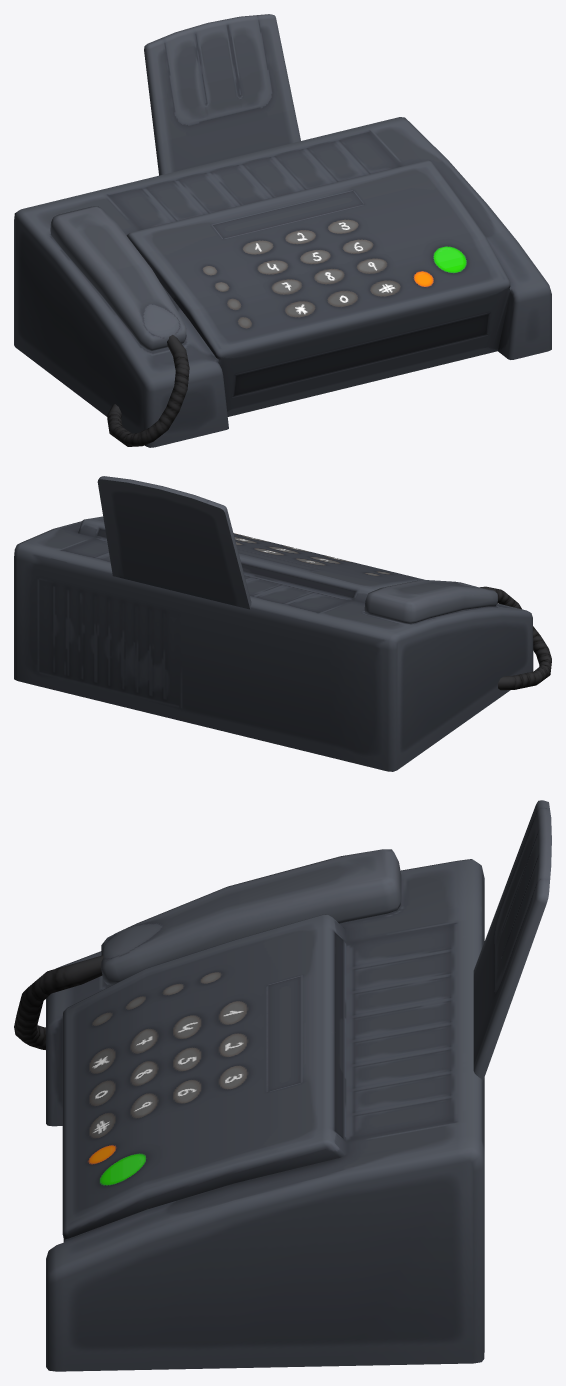
Rendered from OfficeFax01.FBX.
The picture shows the model from 3 angles, top to bottom: view 1: azimuth 30°, elevation 25°; view 2: azimuth 150°, elevation 25°; view 3: azimuth 270°, elevation 25°; orthographic projection. The views are drawn at different scales.
Parts seen in each view (by area): view 1: OfficeFax01; view 2: OfficeFax01; view 3: OfficeFax01.
Part boxes in pixels (bbox=[...]): OfficeFax01: bbox=[14, 14, 551, 447]; OfficeFax01: bbox=[14, 476, 551, 771]; OfficeFax01: bbox=[14, 800, 551, 1371].
Size of what is drawn, in the model's own units: 0.6462 by 0.3665 by 0.4536.
